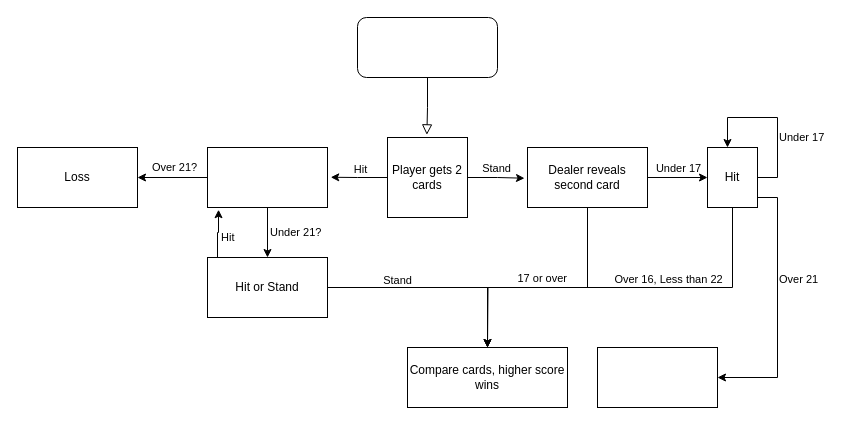
Image size: 842x425. Some labels were removed from this diagram. The centre of each missing label's shape, as x and y in pixels:
"Dealer gets 2 cards, 1 of them is hidden" goes at (427,47).
"Give player another card" goes at (267,177).
"Player wins." goes at (657,377).
